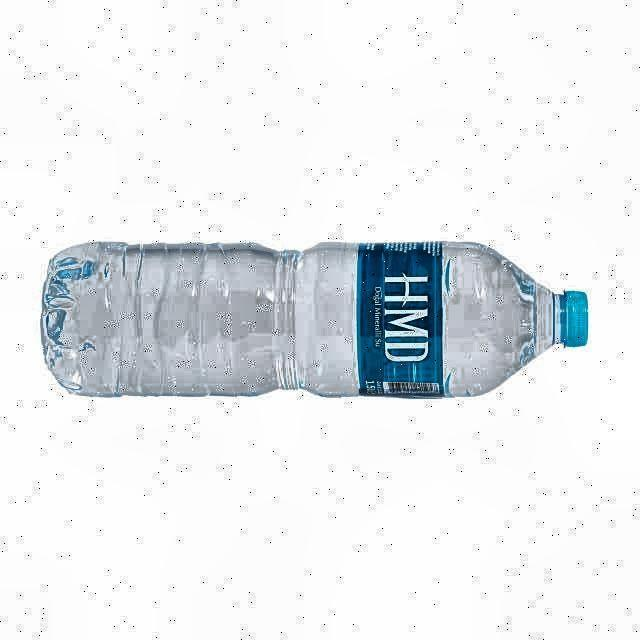plastic: (41, 242, 588, 396)
